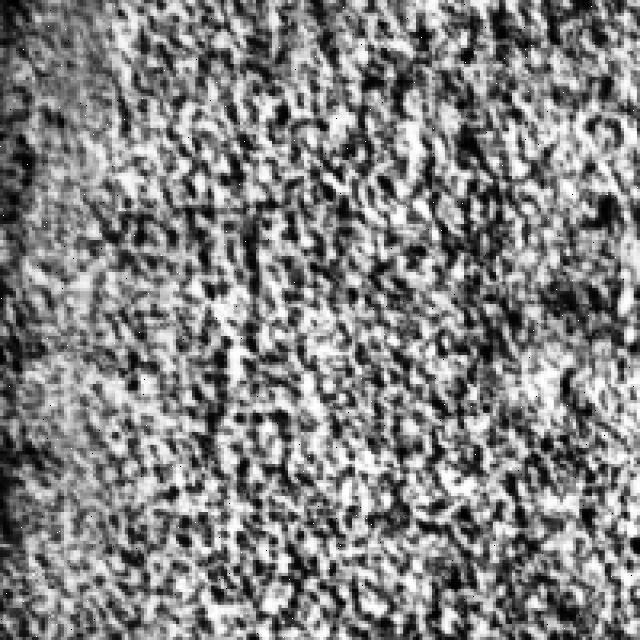Rolled_in_Scale: (19, 0, 624, 624)
